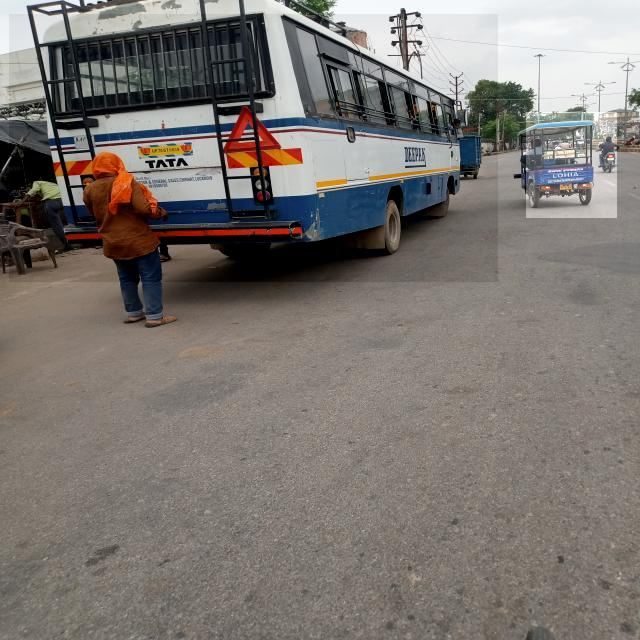Auto: (526, 112, 617, 218)
Bus: (9, 14, 498, 282)
